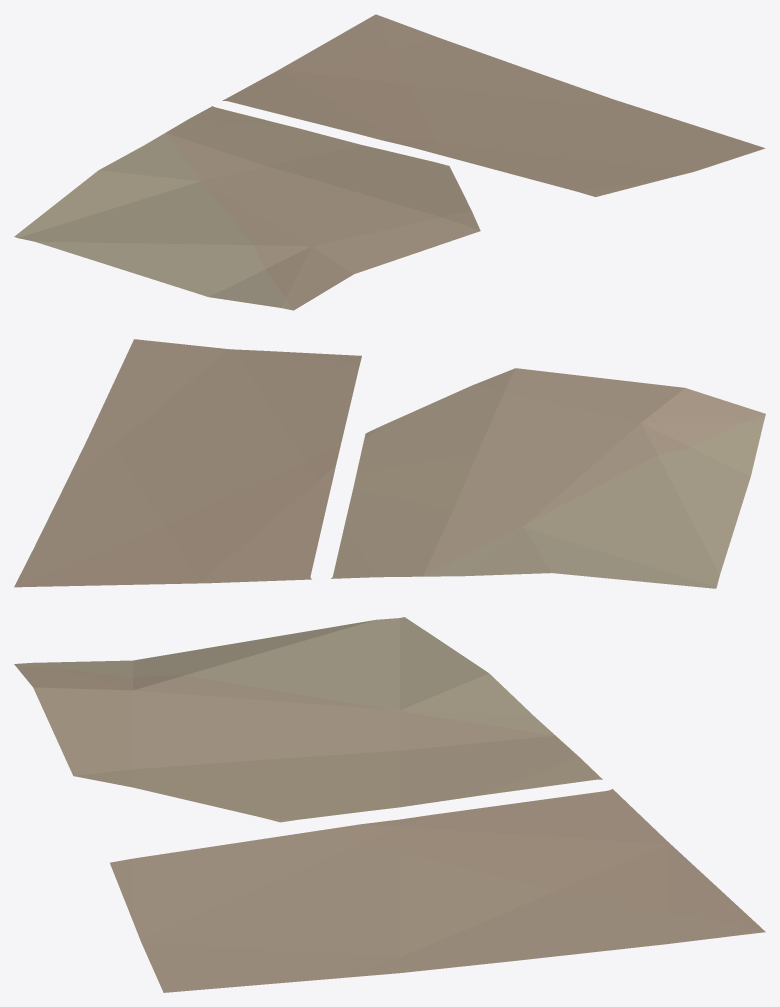
Rendered from farm_-24_-30_soil.glb.
3 views of the same model, one above another, from view 1: azimuth 30°, elevation 25°; view 2: azimuth 150°, elevation 25°; view 3: azimuth 270°, elevation 25° (orthographic). The views are drawn at different scales.
Parts seen in each view (by area): view 1: geometry_0; view 2: geometry_0; view 3: geometry_0.
Boxes of the visible parts, x1,y1,x2,y2 form: geometry_0: [14, 14, 765, 310]; geometry_0: [14, 339, 765, 588]; geometry_0: [14, 617, 765, 992].
Bounding box in the file's own units: 269 × 17.58 × 225.
